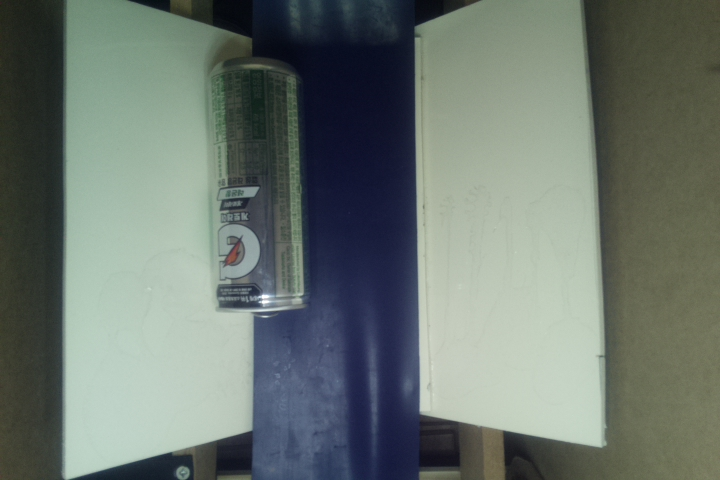can: (206, 55, 311, 319)
